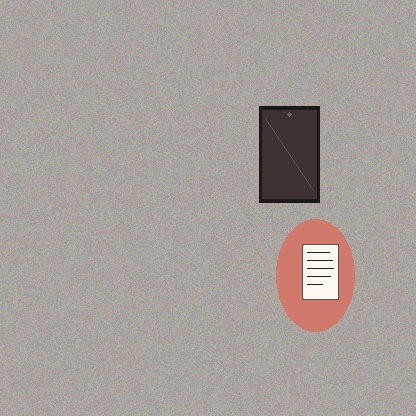cell_phone: (259, 106, 319, 202)
exam_chit: (302, 244, 338, 299)
